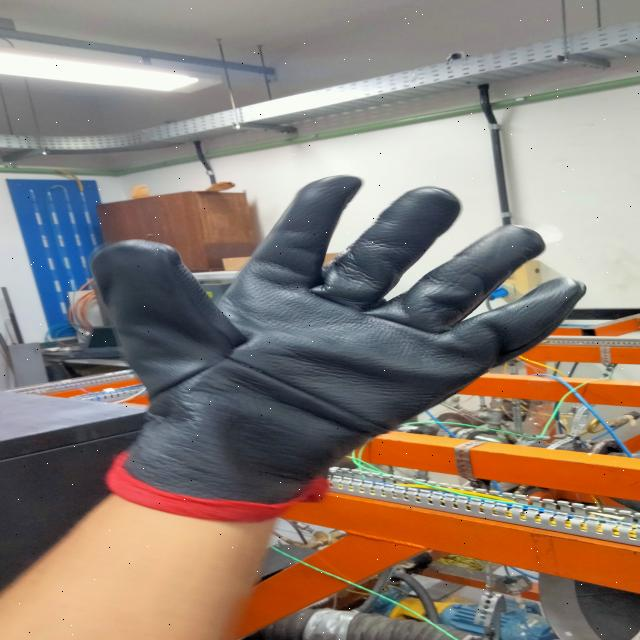Gloves: (88, 172, 591, 516)
